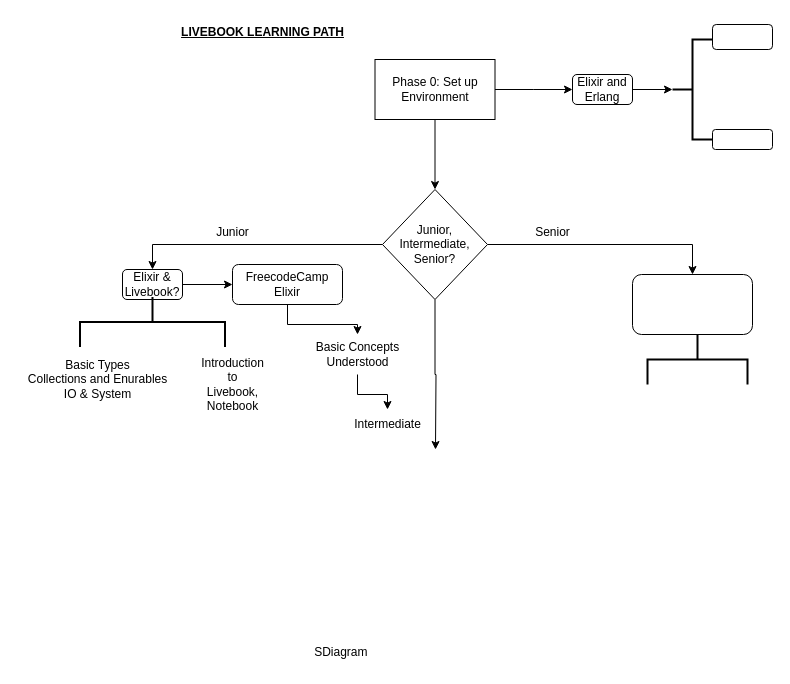
The diagram is 790 pixels wide and 684 high, and some of its shapes have lost their labels. Here are the shapes that lost their labels. From the top down, the centre of each, then its label:
At (x=742, y=37): "Livebook".
At (x=742, y=139): "VS-Code".
At (x=692, y=304): "OTP".
